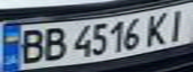1: (106, 17, 127, 53)
4: (69, 21, 93, 59)
5: (90, 20, 112, 56)
6: (121, 15, 148, 51)
B: (12, 26, 48, 65), (39, 25, 69, 62)
I: (163, 6, 193, 40)
K: (142, 9, 175, 46)
